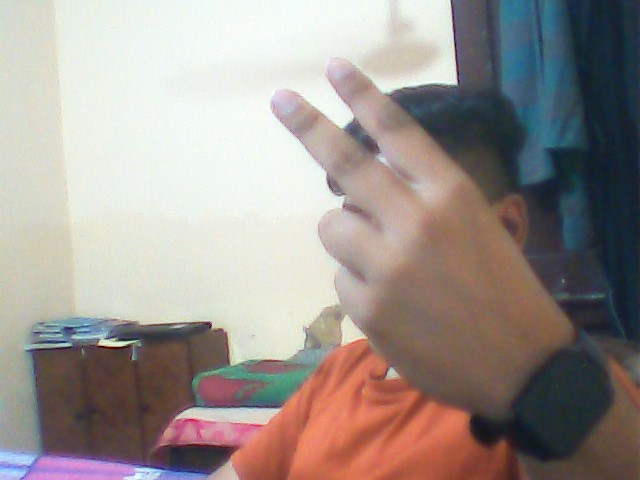Please: (264, 48, 557, 394)
